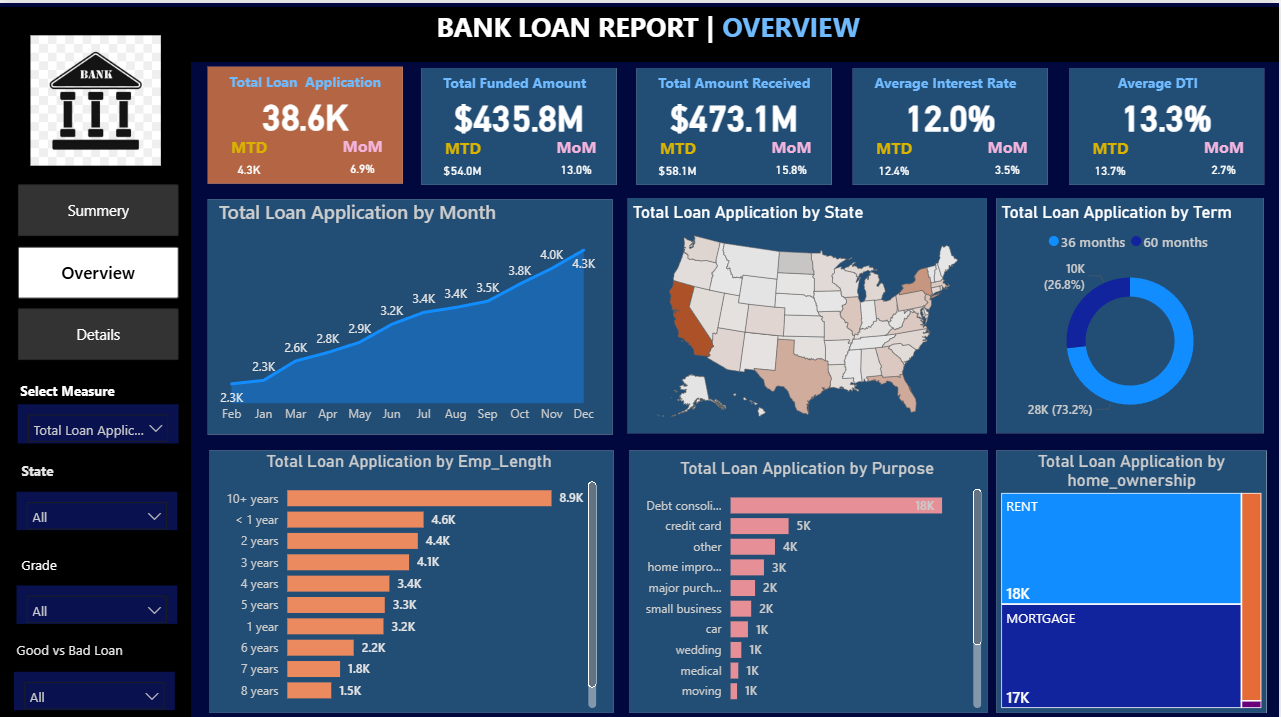

Layout of this report page (visuals, bound fields, positions):
{"tool":"powerbi","page":{"name":"Overview","canvas":[1280,720],"ordinal":1},"visuals":[{"type":"shape","box":[208.2,63.1,195.1,117],"z":0,"group":"g1"},{"type":"shape","box":[422.8,64.4,195.1,117],"z":0,"group":"g2"},{"type":"shape","box":[637.6,64.4,195.1,117],"z":0,"group":"g3"},{"type":"shape","box":[853.5,64.4,195.1,117],"z":0,"group":"g4"},{"type":"shape","box":[1069.5,64.4,195.1,117],"z":0,"group":"g5"},{"type":"shape","box":[208.8,196.2,405,235],"z":0},{"type":"textbox","box":[0,55.2,192,665],"z":1000},{"type":"card","fields":{"Values":["financial_loan.TOTAL LOAN APPLICATION"]},"box":[208.2,81.5,195.1,58.9],"z":1000,"group":"g1"},{"type":"card","fields":{"Values":["financial_loan.Total Funded Amount"]},"box":[422.8,82.8,195.1,58.9],"z":1000,"group":"g2"},{"type":"card","fields":{"Values":["financial_loan.Total Amount Receive"]},"box":[637.6,82.8,195.1,58.9],"z":1000,"group":"g3"},{"type":"card","fields":{"Values":["financial_loan.Average Interst Rate"]},"box":[853.5,82.8,195.1,58.9],"z":1000,"group":"g4"},{"type":"card","fields":{"Values":["financial_loan.Average DTI"]},"box":[1069.5,82.8,195.1,58.9],"z":1000,"group":"g5"},{"type":"textbox","box":[0,3.8,1280,55],"z":2000},{"type":"textbox","box":[209.4,63.1,195.1,35.6],"z":2000,"group":"g1"},{"type":"textbox","box":[424,64.4,195.1,35.6],"z":2000,"group":"g2"},{"type":"textbox","box":[638.8,64.4,195.1,35.6],"z":2000,"group":"g3"},{"type":"textbox","box":[854.7,64.4,195.1,35.6],"z":2000,"group":"g4"},{"type":"textbox","box":[1070.7,64.4,195.1,35.6],"z":2000,"group":"g5"},{"type":"textbox","box":[431.9,0,504.3,55.2],"z":3000},{"type":"card","title":"MTD ","fields":{"Values":["financial_loan.MTD Loan Application"]},"box":[208.8,131.3,82.9,48.6],"z":3000,"group":"g1"},{"type":"card","title":"MTD ","fields":{"Values":["financial_loan.MTD funded Amount"]},"box":[423.4,132.6,82.9,48.6],"z":3000,"group":"g2"},{"type":"card","title":"MTD ","fields":{"Values":["financial_loan.MTD Amount Recieve"]},"box":[638.2,132.6,82.9,48.6],"z":3000,"group":"g3"},{"type":"card","title":"MTD ","fields":{"Values":["financial_loan.MTD avg Interst Rate"]},"box":[854.1,132.6,82.9,48.6],"z":3000,"group":"g4"},{"type":"card","title":"MTD ","fields":{"Values":["financial_loan.MTD Average DTI"]},"box":[1070.1,132.6,82.9,48.6],"z":3000,"group":"g5"},{"type":"textbox","box":[16.2,374.2,108,36.8],"z":3000,"group":"g9"},{"type":"textbox","box":[17.2,454.2,90.8,35.6],"z":3000,"group":"g6"},{"type":"textbox","box":[17.2,547.5,90.8,35.6],"z":3000,"group":"g7"},{"type":"textbox","box":[12.3,632.1,136.2,35],"z":3000,"group":"g8"},{"type":"group","id":"g1","title":"Group 1","box":[208.2,63.1,196.7,116.7],"z":4000},{"type":"card","title":"MoM","fields":{"Values":["financial_loan.MoM Loan Application"]},"box":[322.3,131.2,82.2,48.9],"z":4000,"group":"g1"},{"type":"card","title":"MoM","fields":{"Values":["financial_loan.MoM Funded Amount"]},"box":[536.9,132.5,82.2,48.9],"z":4000,"group":"g2"},{"type":"card","title":"MoM","fields":{"Values":["financial_loan.MoM Amount Recieve"]},"box":[751.7,132.5,82.2,48.9],"z":4000,"group":"g3"},{"type":"card","title":"MoM","fields":{"Values":["financial_loan.MoM Avg Interst Rate"]},"box":[967.6,132.5,82.2,48.9],"z":4000,"group":"g4"},{"type":"card","title":"MoM","fields":{"Values":["financial_loan.MoM Avg DTI"]},"box":[1183.6,132.5,82.2,48.9],"z":4000,"group":"g5"},{"type":"group","id":"g2","title":"Group 1","box":[422.8,64.4,196.9,116.4],"z":5000},{"type":"group","id":"g3","title":"Group 1","box":[637.6,64.4,198.1,116.4],"z":6000},{"type":"group","id":"g4","title":"Group 1","box":[853.5,64.4,198.1,116.4],"z":7000},{"type":"group","id":"g5","title":"Group 1","box":[1069.5,64.4,198.1,116.4],"z":8000},{"type":"group","id":"g6","title":"Group 3","box":[17.2,454.2,160.7,73.6],"z":9000},{"type":"group","id":"g7","title":"Group 3","box":[17.2,547.5,160.7,73.6],"z":10000},{"type":"group","id":"g8","title":"Group 3","box":[12.3,632.1,163.2,73.6],"z":11000},{"type":"areaChart","fields":{"Y":["financial_loan.Total Loan Application"],"Category":["DateTable.Month"]},"box":[214.7,196.3,387.7,233.1],"z":12000},{"type":"slicer","fields":{"Values":["Select Measure.Select Measure"]},"box":[18.7,401.2,160.7,39.3],"z":13000},{"type":"group","id":"g9","title":"Group 3","box":[16.2,374.2,108,36.8],"z":14000},{"type":"shape","box":[628.2,195.1,359.5,235.6],"z":15000},{"type":"shapeMap","fields":{"Value":["financial_loan.Total Loan Application"],"Category":["financial_loan.address_state"]},"box":[628.8,198.8,360,230],"z":16000},{"type":"shape","box":[997.5,195,267.5,235],"z":17000},{"type":"donutChart","fields":{"Y":["financial_loan.Total Loan Application"],"Category":["financial_loan.term"]},"box":[997.5,198.8,267.5,230],"z":18000},{"type":"shape","box":[210,447.5,405,262.5],"z":19000},{"type":"barChart","fields":{"Y":["financial_loan.Total Loan Application"],"Category":["financial_loan.emp_length"]},"box":[217.5,447.5,385,262.5],"z":20000},{"type":"slicer","fields":{"Values":["financial_loan.address_state"]},"box":[17.2,489.8,160.7,38],"z":20000,"group":"g6"},{"type":"slicer","fields":{"Values":["financial_loan.grade"]},"box":[17.2,583.1,160.7,38],"z":20000,"group":"g7"},{"type":"slicer","fields":{"Values":["financial_loan.loan_status (groups)"]},"box":[14.5,668.1,160.7,38],"z":20000,"group":"g8"},{"type":"shape","box":[630,447.5,358.8,262.5],"z":21000},{"type":"barChart","fields":{"Y":["financial_loan.Total Loan Application"],"Category":["financial_loan.purpose"]},"box":[628.8,455,358.8,255],"z":22000},{"type":"shape","box":[997.5,447.5,270,262.5],"z":23000},{"type":"treemap","fields":{"Values":["financial_loan.Total Loan Application"],"Group":["financial_loan.home_ownership"]},"box":[997.5,447.5,270,262.5],"z":24000},{"type":"pageNavigator","box":[18.4,181.6,162,177.9],"z":25000},{"type":"image","box":[16,27,160.7,139.9],"z":26000}]}

Visuals, with their boxes in screenshot pixels (x1, y1, x2, y2), scaled from the page's 1280x720 canvas onto the 1281x717 screenshot:
shape: locate(208, 63, 404, 179)
shape: locate(423, 64, 618, 181)
shape: locate(638, 64, 833, 181)
shape: locate(854, 64, 1049, 181)
shape: locate(1070, 64, 1266, 181)
shape: locate(209, 195, 614, 429)
textbox: locate(0, 55, 192, 716)
card - financial_loan.TOTAL LOAN APPLICATION: locate(208, 81, 404, 140)
card - financial_loan.Total Funded Amount: locate(423, 82, 618, 141)
card - financial_loan.Total Amount Receive: locate(638, 82, 833, 141)
card - financial_loan.Average Interst Rate: locate(854, 82, 1049, 141)
card - financial_loan.Average DTI: locate(1070, 82, 1266, 141)
textbox: locate(0, 4, 1280, 59)
textbox: locate(210, 63, 405, 98)
textbox: locate(424, 64, 620, 100)
textbox: locate(639, 64, 835, 100)
textbox: locate(855, 64, 1051, 100)
textbox: locate(1072, 64, 1267, 100)
textbox: locate(432, 0, 937, 55)
"MTD " card: locate(209, 131, 292, 179)
"MTD " card: locate(424, 132, 507, 180)
"MTD " card: locate(639, 132, 722, 180)
"MTD " card: locate(855, 132, 938, 180)
"MTD " card: locate(1071, 132, 1154, 180)
textbox: locate(16, 373, 124, 409)
textbox: locate(17, 452, 108, 488)
textbox: locate(17, 545, 108, 581)
textbox: locate(12, 629, 149, 664)
"Group 1" group: locate(208, 63, 405, 179)
"MoM" card: locate(323, 131, 405, 179)
"MoM" card: locate(537, 132, 620, 181)
"MoM" card: locate(752, 132, 835, 181)
"MoM" card: locate(968, 132, 1051, 181)
"MoM" card: locate(1185, 132, 1267, 181)
"Group 1" group: locate(423, 64, 620, 180)
"Group 1" group: locate(638, 64, 836, 180)
"Group 1" group: locate(854, 64, 1052, 180)
"Group 1" group: locate(1070, 64, 1269, 180)
"Group 3" group: locate(17, 452, 178, 526)
"Group 3" group: locate(17, 545, 178, 619)
"Group 3" group: locate(12, 629, 176, 703)
areaChart - financial_loan.Total Loan Application x DateTable.Month: locate(215, 195, 603, 428)
slicer - Select Measure.Select Measure: locate(19, 400, 180, 439)
"Group 3" group: locate(16, 373, 124, 409)
shape: locate(629, 194, 988, 429)
shapeMap - financial_loan.Total Loan Application x financial_loan.address_state: locate(629, 198, 990, 427)
shape: locate(998, 194, 1266, 428)
donutChart - financial_loan.Total Loan Application x financial_loan.term: locate(998, 198, 1266, 427)
shape: locate(210, 446, 615, 707)
barChart - financial_loan.Total Loan Application x financial_loan.emp_length: locate(218, 446, 603, 707)
slicer - financial_loan.address_state: locate(17, 488, 178, 526)
slicer - financial_loan.grade: locate(17, 581, 178, 619)
slicer - financial_loan.loan_status (groups): locate(15, 665, 175, 703)
shape: locate(630, 446, 990, 707)
barChart - financial_loan.Total Loan Application x financial_loan.purpose: locate(629, 453, 988, 707)
shape: locate(998, 446, 1268, 707)
treemap - financial_loan.Total Loan Application x financial_loan.home_ownership: locate(998, 446, 1268, 707)
pageNavigator: locate(18, 181, 181, 358)
image: locate(16, 27, 177, 166)
